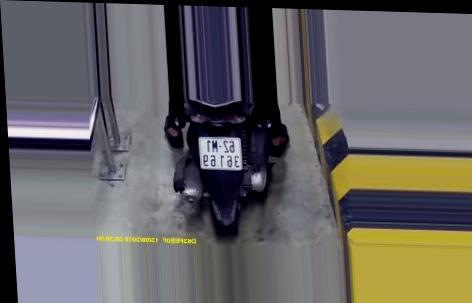License_Plate: (196, 133, 247, 173)
